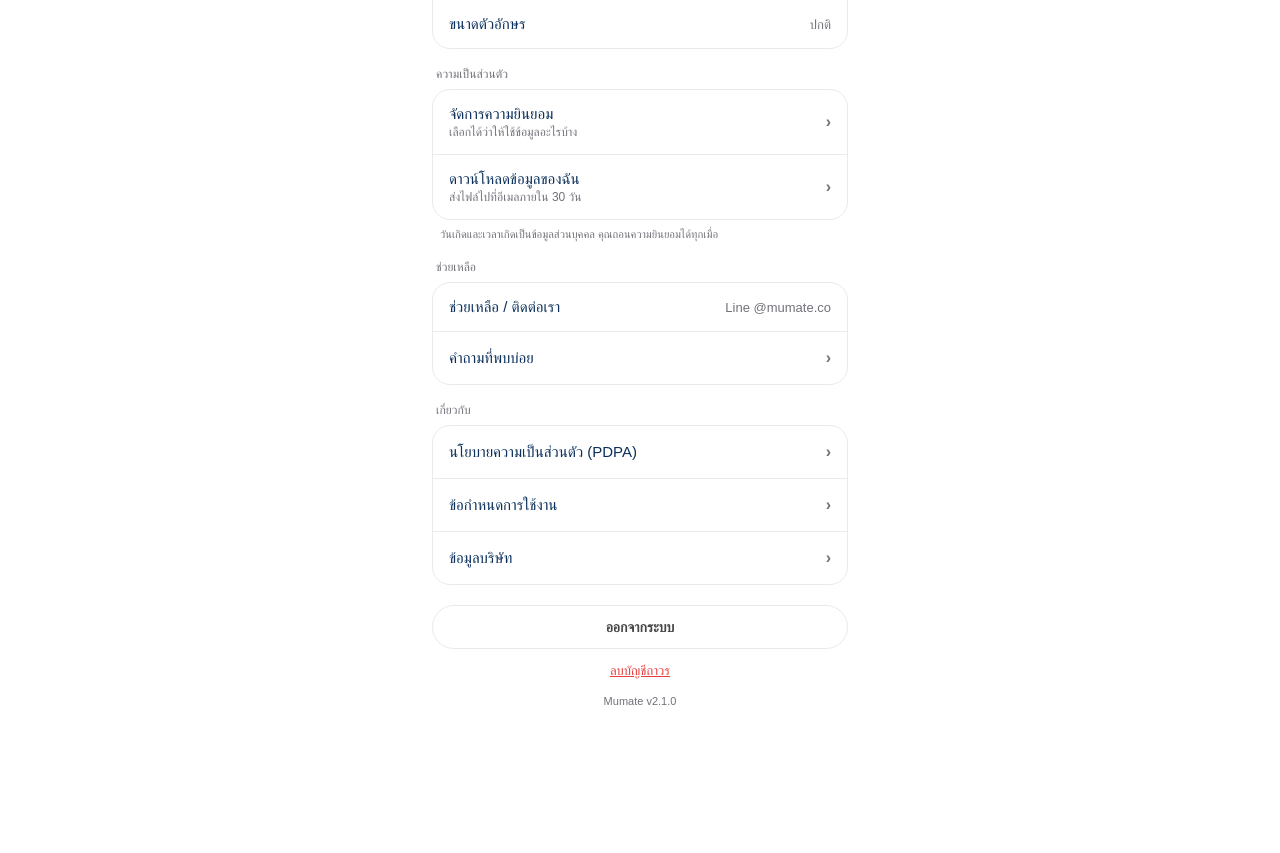
it: #team-mp4 · หน้าตั้งค่า › S2 ออกจากระบบต้องยืนยันก่อน — กดครั้งเดียว ❌ ไม่หลุดทันที
(page scrolled)
Click the button with test id "settings-logout-ask" at [640, 627], box [432,605,848,649]
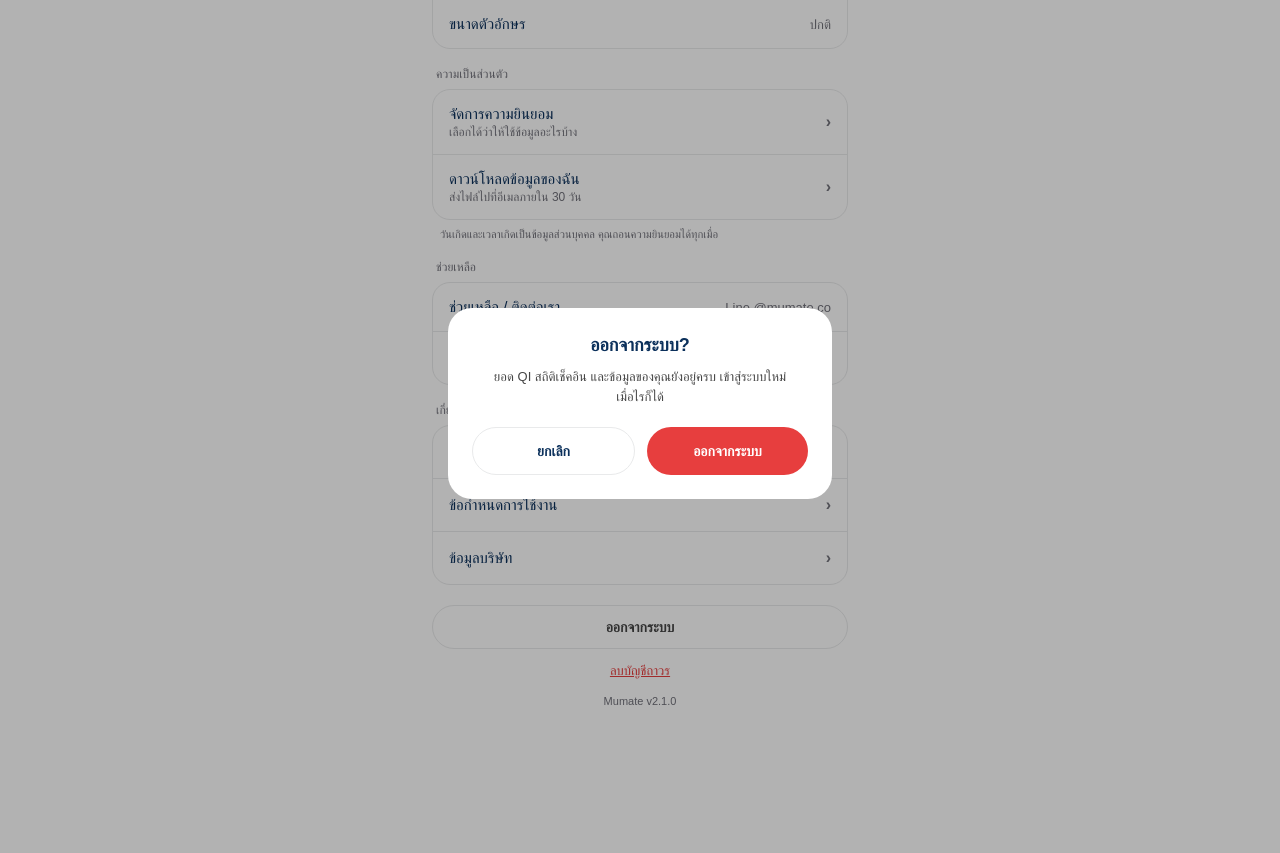
Now the button with test id "settings-logout-confirm" is shown, box [647,426,808,474]
